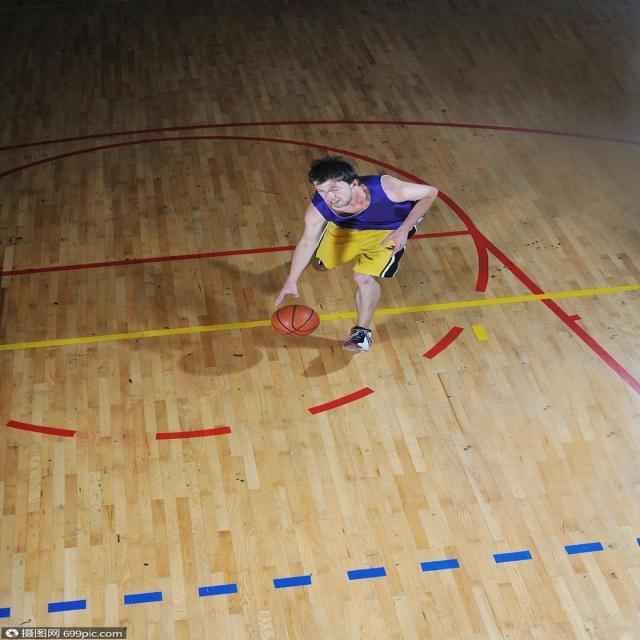rim: (275, 304, 319, 335)
